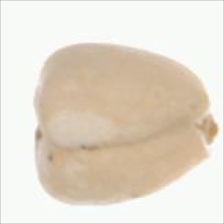L3: (197, 87, 219, 163)
L4: (33, 42, 220, 206)
